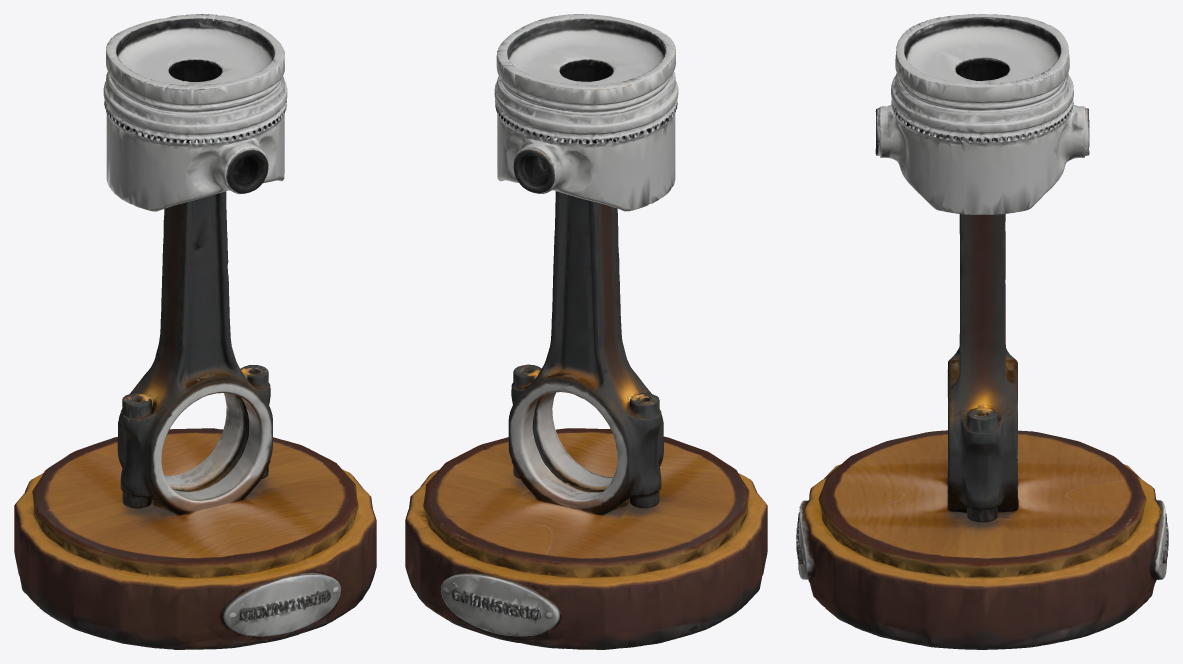
The model's file is piston-hq.glb.
3 views of the same model, side by side, from view 1: azimuth 30°, elevation 25°; view 2: azimuth 150°, elevation 25°; view 3: azimuth 270°, elevation 25° (orthographic).
Size of the model in its own units: 1.18 by 1.9 by 1.22.
1 material, 1 textured.
